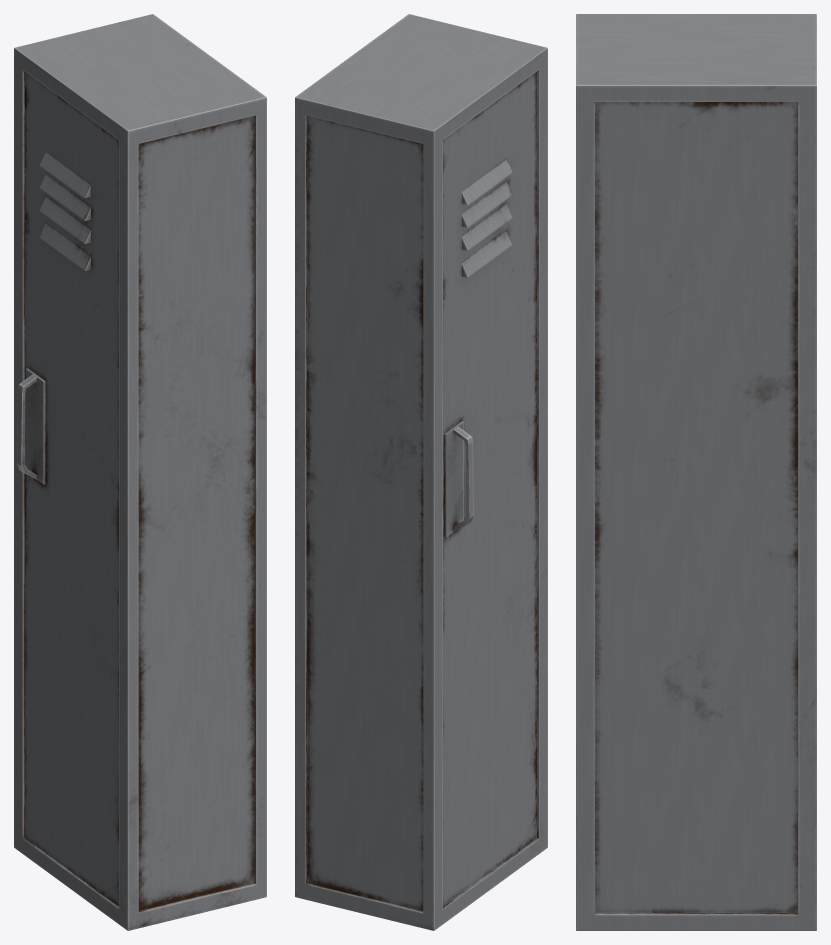
Rendered from SM_Locker_00.fbx.
3 views of the same model, side by side, from view 1: azimuth 30°, elevation 25°; view 2: azimuth 150°, elevation 25°; view 3: azimuth 270°, elevation 25° (orthographic). The views are drawn at different scales.
Visible parts, largest first — view 1: SM_Locker_00; view 2: SM_Locker_00; view 3: SM_Locker_00.
Boxes of the visible parts, <box> form: SM_Locker_00: <box>14,14,266,930</box>; SM_Locker_00: <box>295,14,547,930</box>; SM_Locker_00: <box>576,14,816,930</box>.
Size of the model in its own units: 29.05 by 36.89 by 143.
